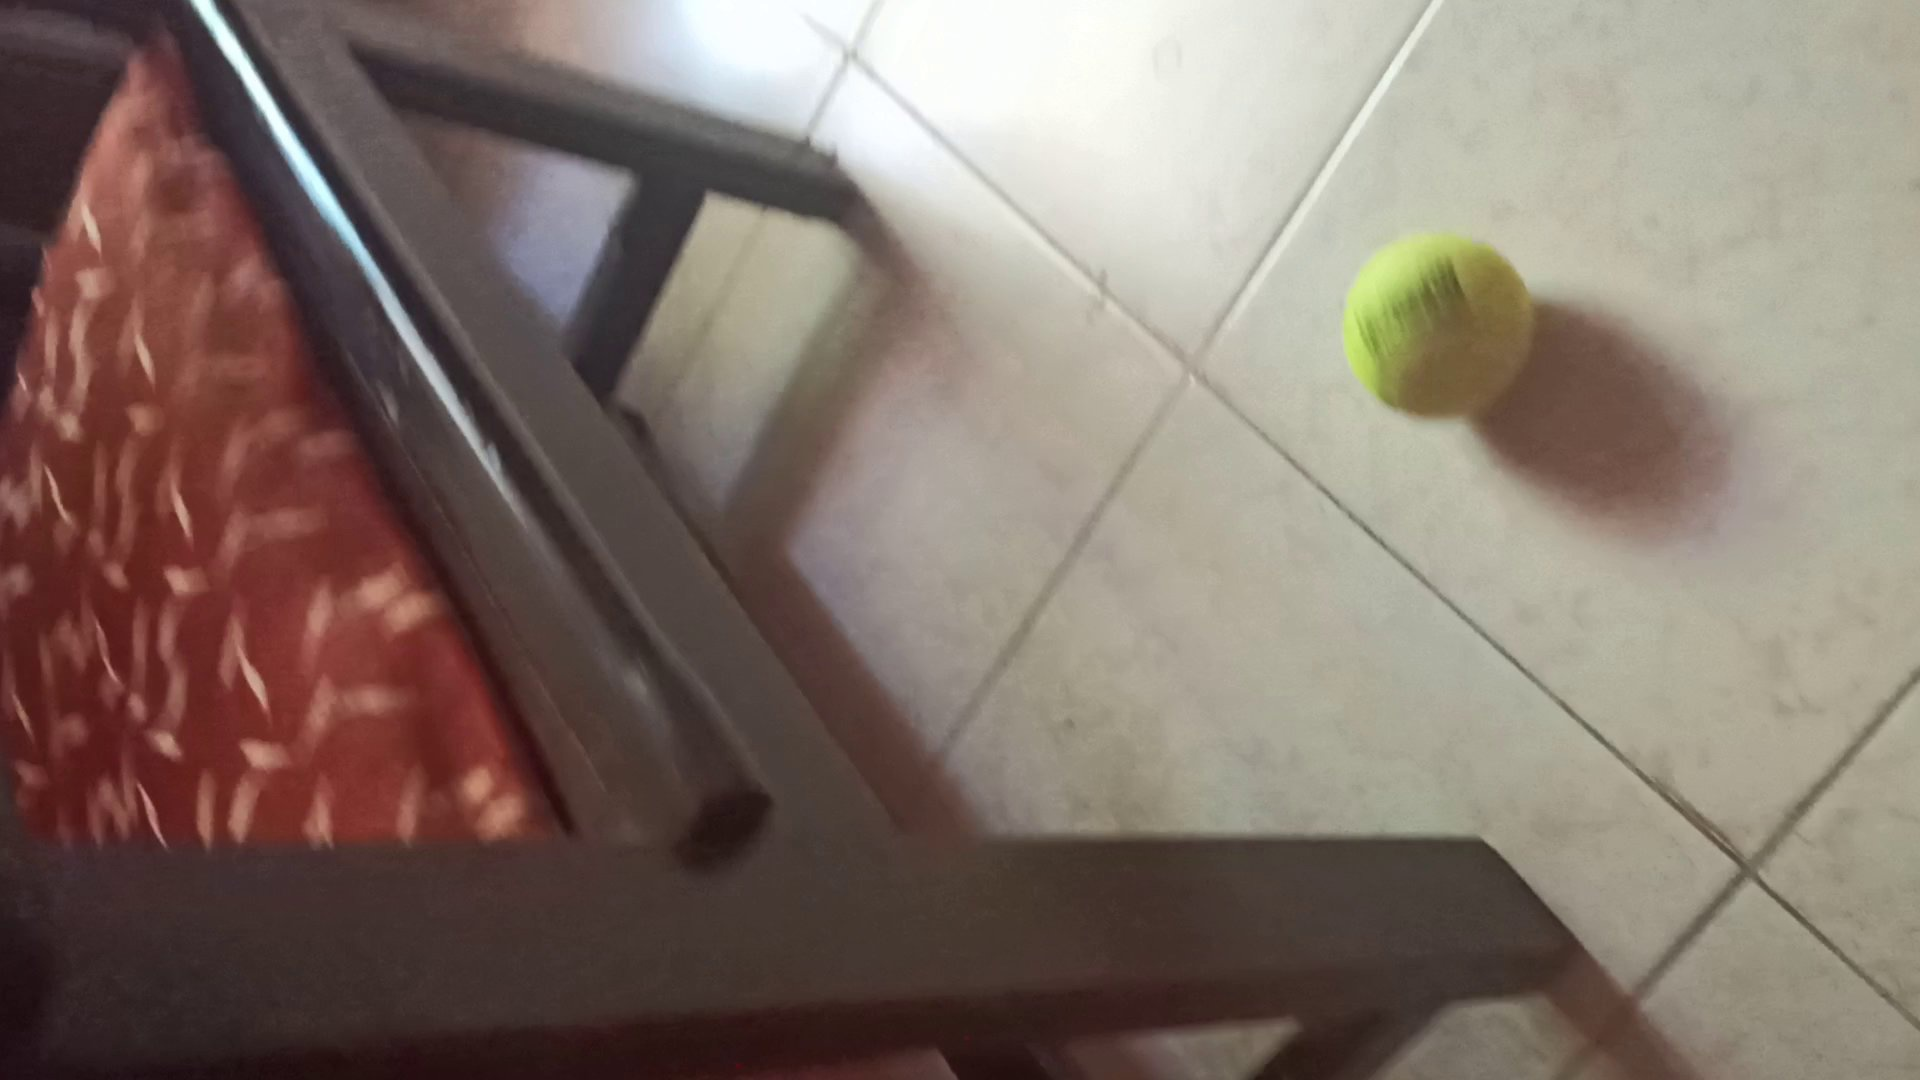Tennis-Ball: (1342, 232, 1534, 422)
